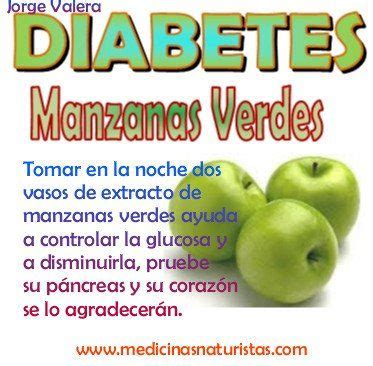apple: (234, 194, 340, 304), (166, 158, 263, 263), (266, 154, 361, 217)
